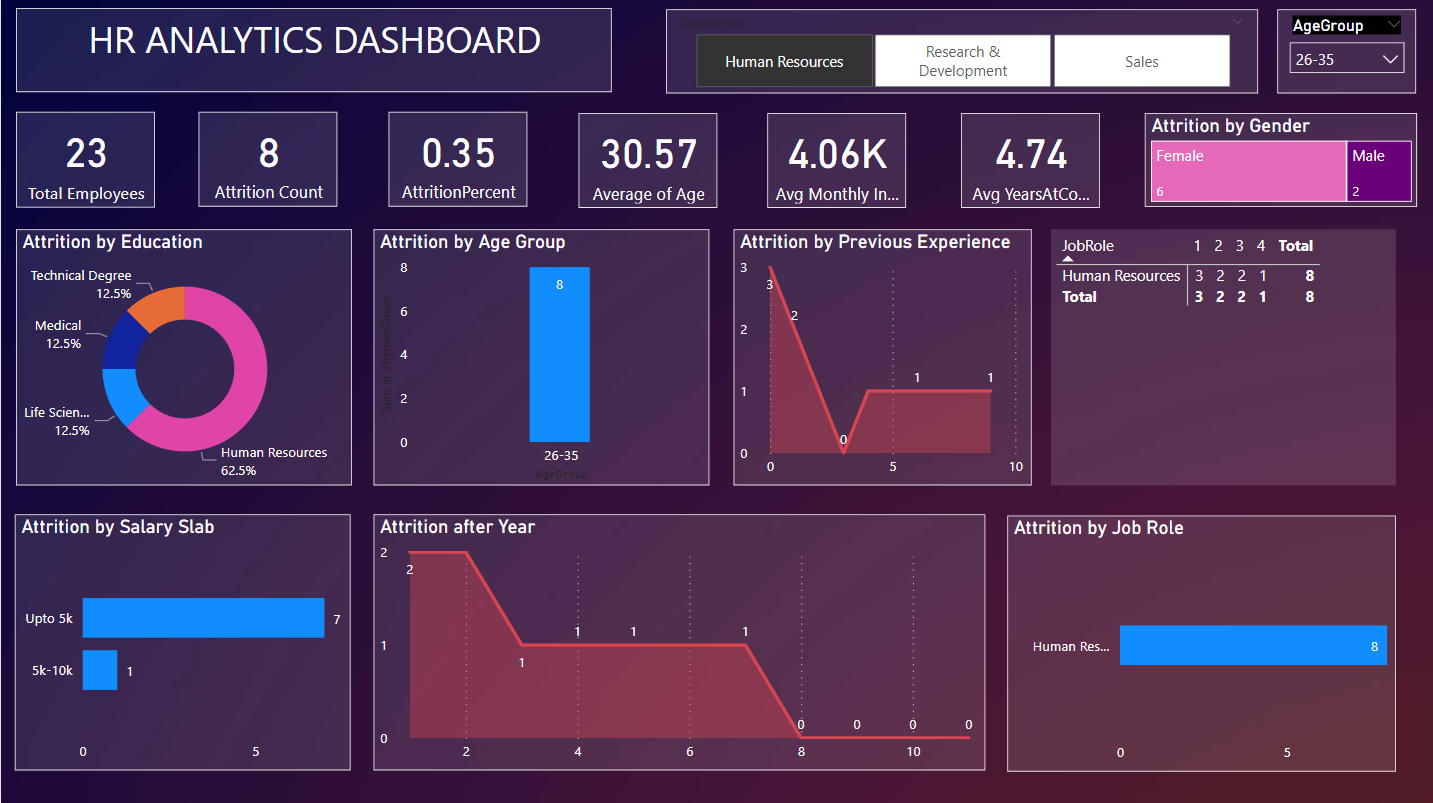

Layout of this report page (visuals, bound fields, positions):
{"tool":"powerbi","page":{"name":"Page 1","canvas":[1280,720],"ordinal":0},"visuals":[{"type":"card","fields":{"Values":["CountNonNull(HR_Analytics.EmpID)"]},"box":[13.9,101.1,124.3,86],"z":0},{"type":"card","fields":{"Values":["Sum(HR_Analytics.AttritionCount)"]},"box":[176.6,101.1,124.3,84.8],"z":1000},{"type":"card","fields":{"Values":["HR_Analytics.AttritionPercent"]},"box":[346.3,101.1,124.3,84.8],"z":2000},{"type":"card","fields":{"Values":["Avg(HR_Analytics.Age)"]},"box":[515.7,102.7,123.9,84.8],"z":3000},{"type":"card","fields":{"Values":["Avg(HR_Analytics.MonthlyIncome)"]},"box":[684.3,102.7,123.9,84.8],"z":4000},{"type":"card","fields":{"Values":["Avg(HR_Analytics.YearsAtCompany)"]},"box":[857.5,102.3,124.3,84.8],"z":5000},{"type":"donutChart","title":"Attrition by Education","fields":{"Category":["HR_Analytics.EducationField"],"Y":["Sum(HR_Analytics.AttritionCount)"]},"box":[13.4,206.7,300,228.9],"z":6000},{"type":"columnChart","title":"Attrition by Age Group","fields":{"Y":["Sum(HR_Analytics.AttritionCount)"],"Category":["HR_Analytics.AgeGroup"]},"box":[332.3,206.8,299.8,228.9],"z":7000},{"type":"pivotTable","fields":{"Rows":["HR_Analytics.JobRole"],"Columns":["HR_Analytics.JobSatisfaction"],"Values":["Sum(HR_Analytics.AttritionCount)"]},"box":[937.7,206.8,307.9,228.9],"z":8000},{"type":"clusteredBarChart","title":"Attrition by Salary Slab","fields":{"Category":["HR_Analytics.SalarySlab"],"Y":["Sum(HR_Analytics.AttritionCount)"]},"box":[12.8,461.3,300,228.9],"z":9000},{"type":"barChart","title":"Attrition by Job Role","fields":{"Category":["HR_Analytics.JobRole"],"Y":["Sum(HR_Analytics.AttritionCount)"]},"box":[898.2,462.5,347.4,228.9],"z":10000},{"type":"areaChart","title":"Attrition after Year","fields":{"Y":["Sum(HR_Analytics.AttritionCount)"],"Category":["HR_Analytics.YearsAtCompany"]},"box":[332.3,461.3,546.1,228.9],"z":11000},{"type":"treemap","title":"Attrition by Gender","fields":{"Group":["HR_Analytics.Gender","HR_Analytics.YearsAtCompany"],"Values":["Sum(HR_Analytics.AttritionCount)"]},"box":[1021.4,102.3,242.8,83.7],"z":12000},{"type":"slicer","fields":{"Values":["HR_Analytics.Department"]},"box":[593.8,10.5,528.7,75.5],"z":13000},{"type":"slicer","fields":{"Values":["HR_Analytics.AgeGroup"]},"box":[1139.9,10.5,124.3,75.5],"z":14000},{"type":"textbox","box":[13.9,9.3,532.2,75.5],"z":15000},{"type":"areaChart","title":"Attrition  by Previous Experience","fields":{"Y":["Sum(HR_Analytics.AttritionCount)"],"Category":["HR_Analytics.NumCompaniesWorked"]},"box":[654.2,206.8,266.1,228.9],"z":15001}]}

Visuals, with their boxes in screenshot pixels (x1, y1, x2, y2), scaled from the page's 1280x720 canvas onto the 1433x803 screenshot:
card - CountNonNull(HR_Analytics.EmpID): {"x1": 16, "y1": 113, "x2": 155, "y2": 209}
card - Sum(HR_Analytics.AttritionCount): {"x1": 198, "y1": 113, "x2": 337, "y2": 207}
card - HR_Analytics.AttritionPercent: {"x1": 388, "y1": 113, "x2": 527, "y2": 207}
card - Avg(HR_Analytics.Age): {"x1": 577, "y1": 115, "x2": 716, "y2": 209}
card - Avg(HR_Analytics.MonthlyIncome): {"x1": 766, "y1": 115, "x2": 905, "y2": 209}
card - Avg(HR_Analytics.YearsAtCompany): {"x1": 960, "y1": 114, "x2": 1099, "y2": 209}
"Attrition by Education" donutChart: {"x1": 15, "y1": 231, "x2": 351, "y2": 486}
"Attrition by Age Group" columnChart: {"x1": 372, "y1": 231, "x2": 708, "y2": 486}
pivotTable - HR_Analytics.JobRole x HR_Analytics.JobSatisfaction: {"x1": 1050, "y1": 231, "x2": 1394, "y2": 486}
"Attrition by Salary Slab" clusteredBarChart: {"x1": 14, "y1": 514, "x2": 350, "y2": 770}
"Attrition by Job Role" barChart: {"x1": 1006, "y1": 516, "x2": 1394, "y2": 771}
"Attrition after Year" areaChart: {"x1": 372, "y1": 514, "x2": 983, "y2": 770}
"Attrition by Gender" treemap: {"x1": 1143, "y1": 114, "x2": 1415, "y2": 207}
slicer - HR_Analytics.Department: {"x1": 665, "y1": 12, "x2": 1257, "y2": 96}
slicer - HR_Analytics.AgeGroup: {"x1": 1276, "y1": 12, "x2": 1415, "y2": 96}
textbox: {"x1": 16, "y1": 10, "x2": 611, "y2": 95}
"Attrition  by Previous Experience" areaChart: {"x1": 732, "y1": 231, "x2": 1030, "y2": 486}
